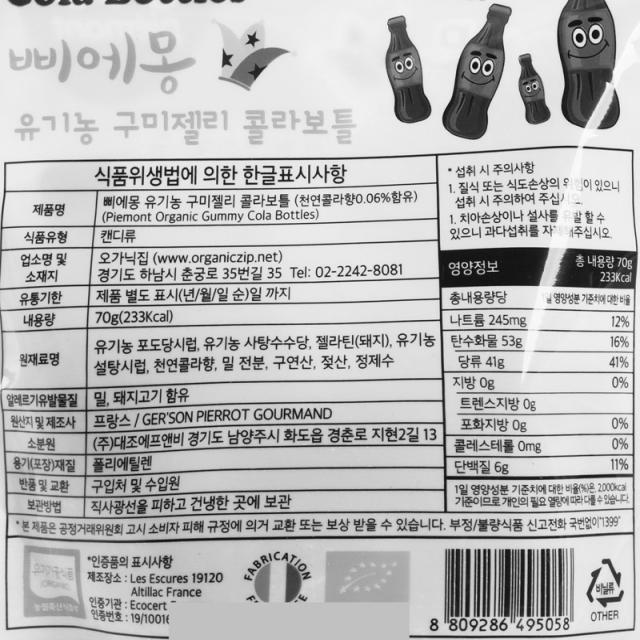Nutrition Label: (438, 245, 640, 511)
